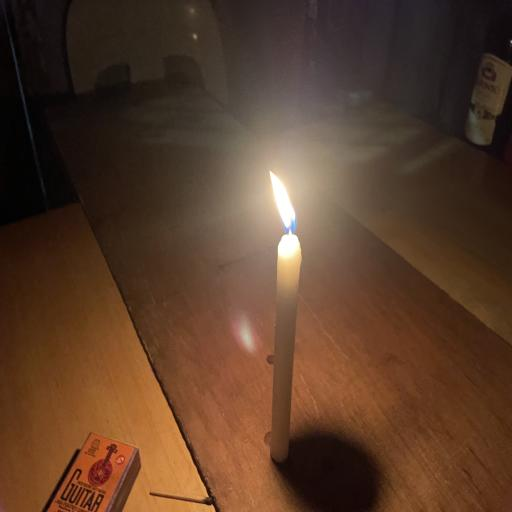fire: (244, 162, 321, 257)
